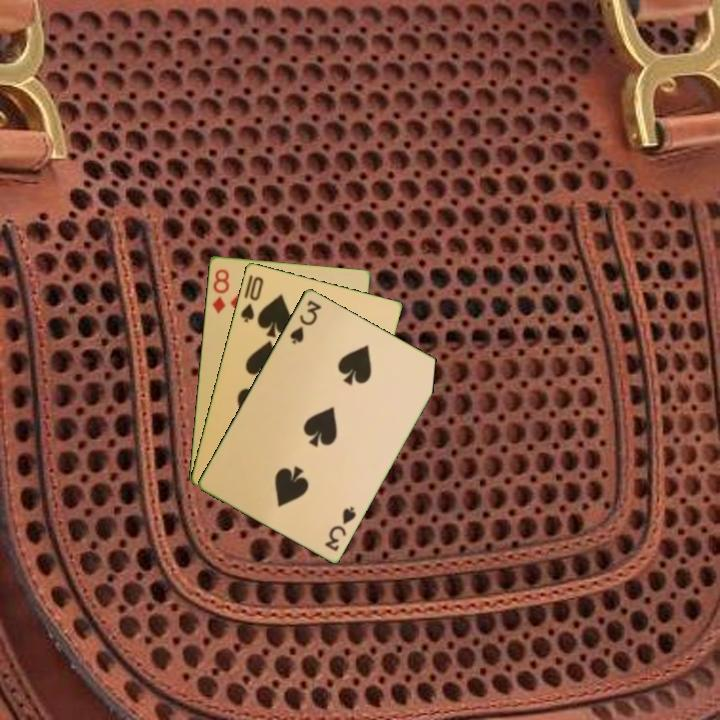10s: (237, 273, 266, 325)
3s: (321, 502, 359, 554), (286, 296, 324, 347)
8d: (209, 265, 232, 316)
